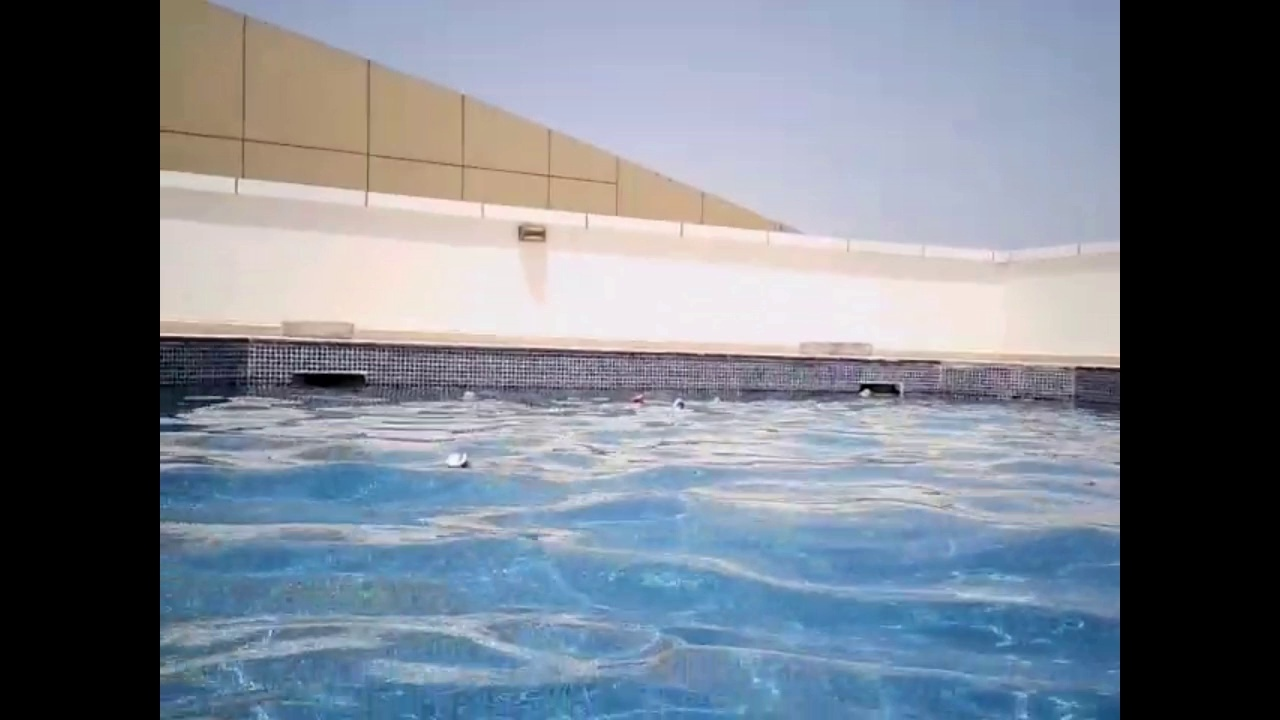debris: (443, 447, 475, 476), (624, 386, 648, 408), (852, 383, 875, 405), (671, 391, 688, 414), (458, 387, 480, 404)
